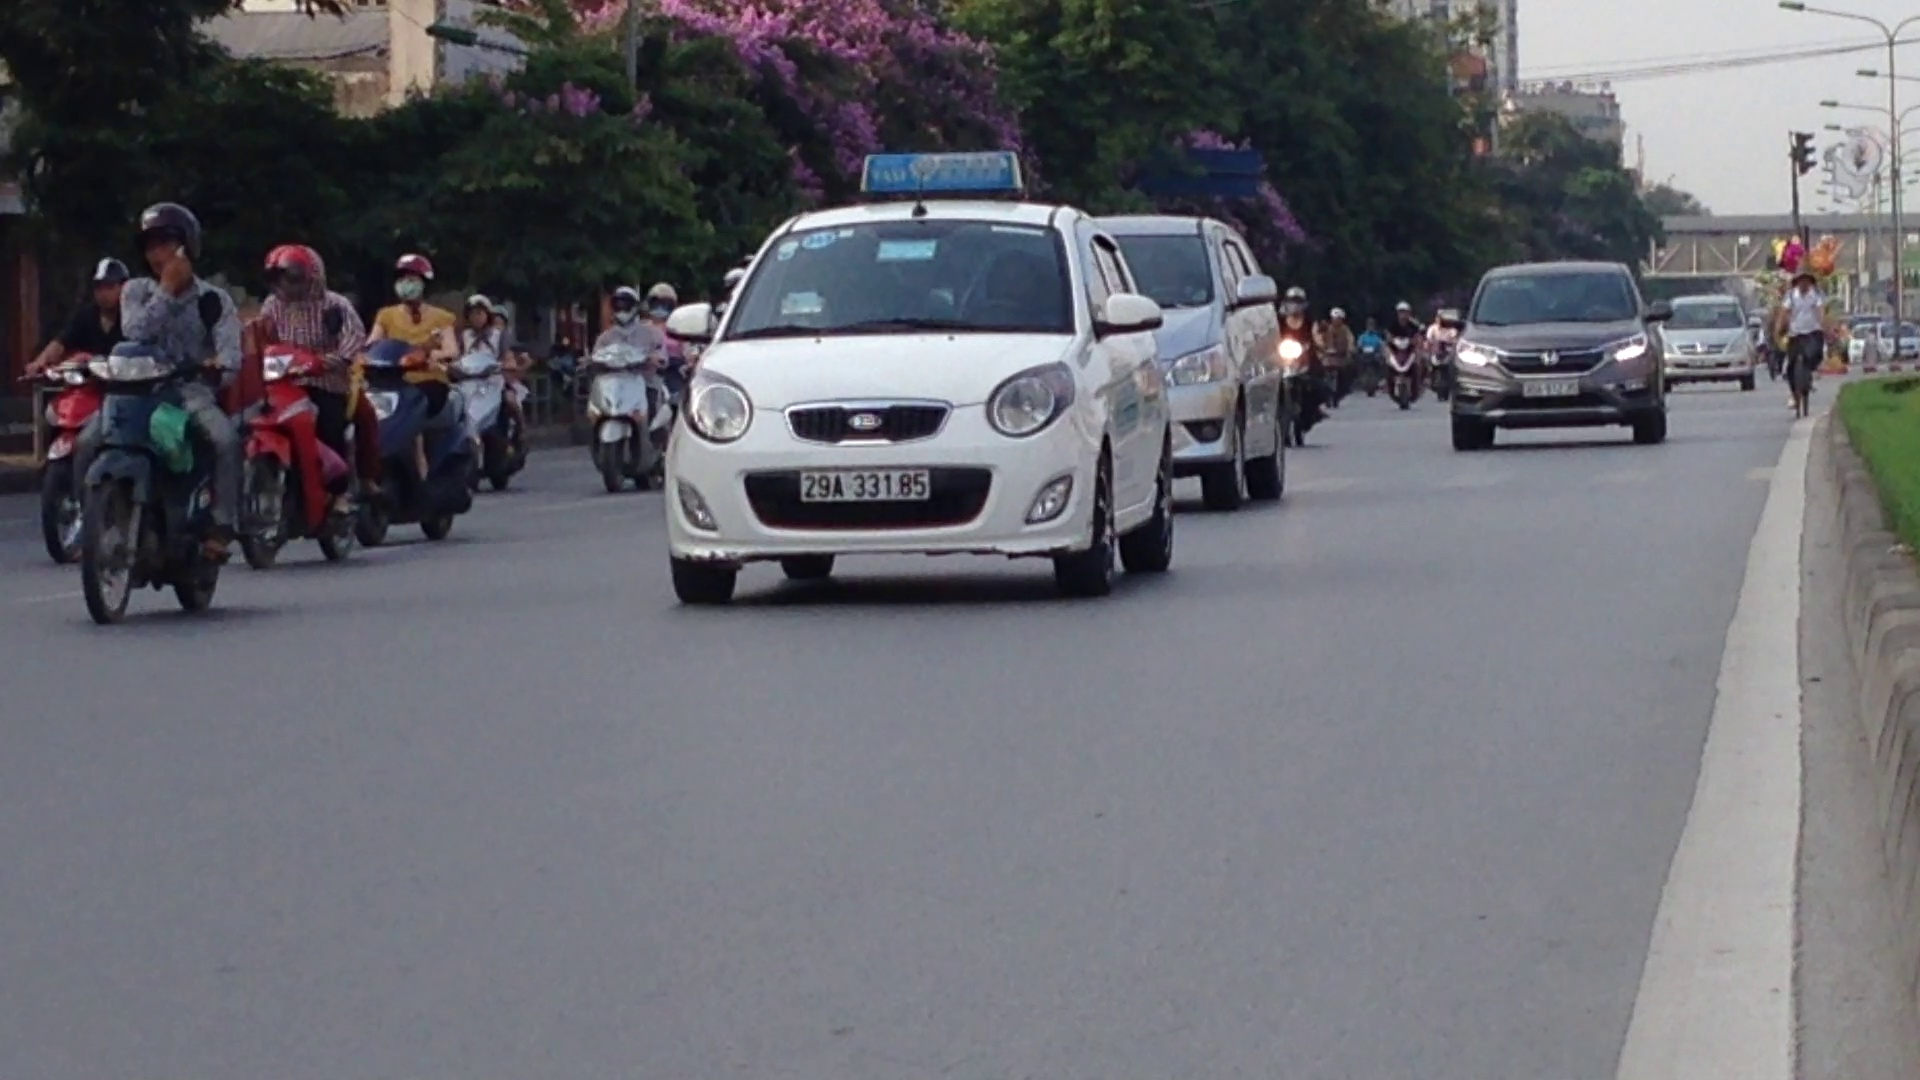vehicle-plate: (796, 466, 934, 501), (1519, 376, 1583, 398)
